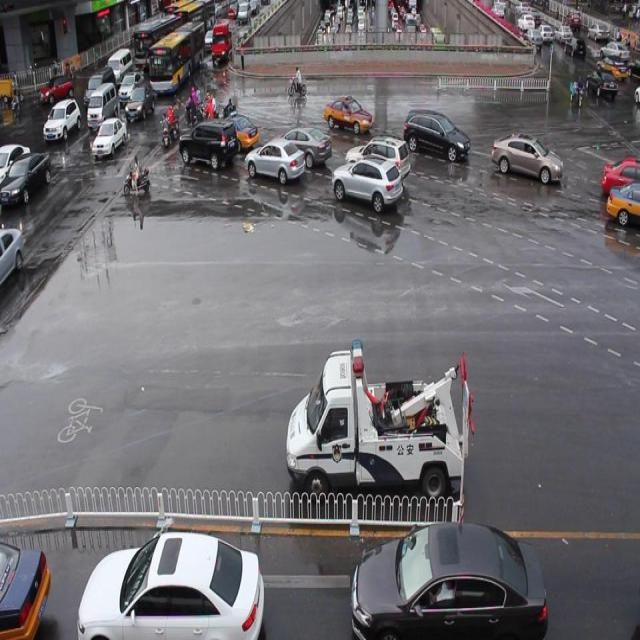bus: (285, 338, 464, 498)
car: (333, 156, 402, 215), (490, 132, 562, 186), (402, 108, 469, 162), (344, 134, 410, 185), (266, 123, 332, 169), (244, 137, 305, 183), (322, 94, 373, 136), (604, 179, 640, 230), (213, 114, 259, 152), (600, 159, 640, 199)
truck: (179, 118, 237, 168)
